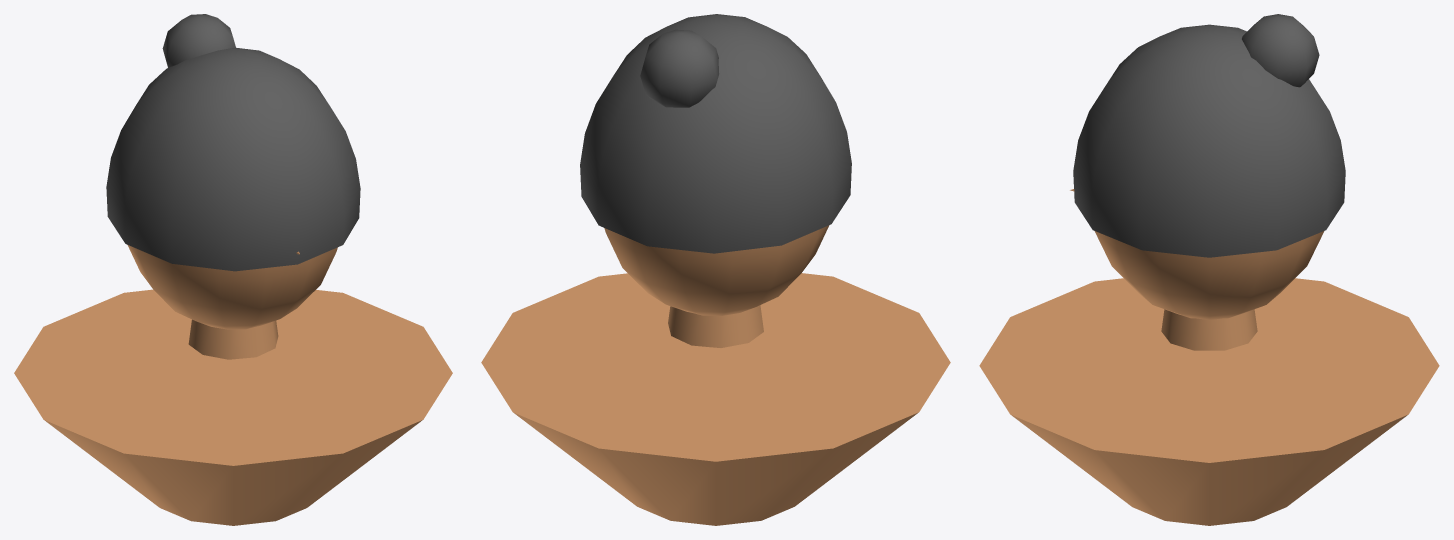
File: raw_002.glb
3 renders of one model, left to right at view 1: azimuth 30°, elevation 25°; view 2: azimuth 150°, elevation 25°; view 3: azimuth 270°, elevation 25°, orthographic. The views are drawn at different scales.
Size of the model in its own units: 2.01 by 2.26 by 2.01.
